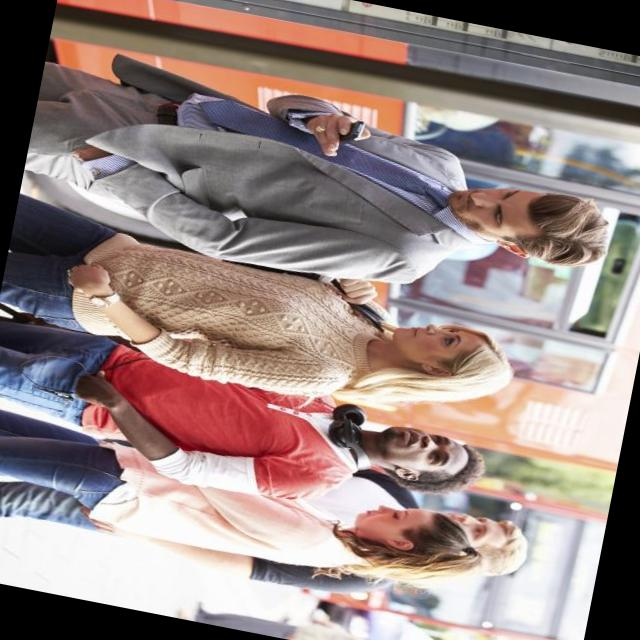bareface: (442, 175, 546, 240), (376, 422, 470, 476), (348, 496, 430, 553), (386, 317, 472, 364), (447, 509, 506, 541)
